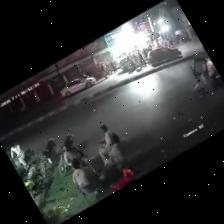person: (64, 143, 96, 172), (72, 158, 98, 191), (11, 144, 27, 167)
